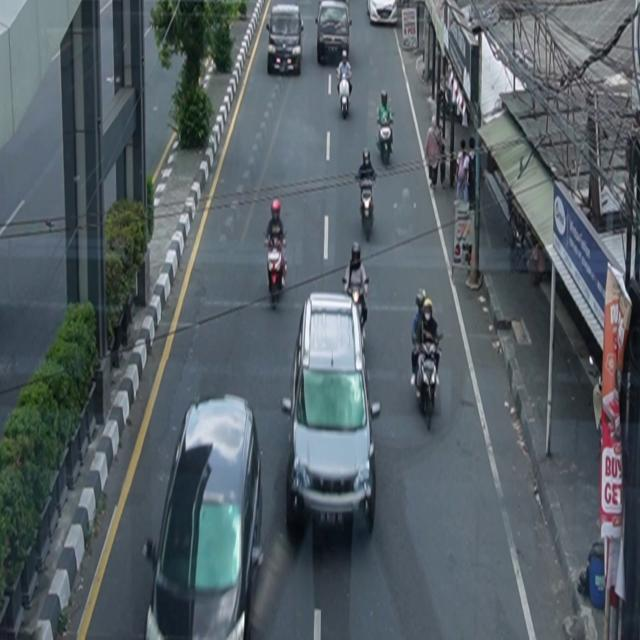car: (143, 394, 265, 640), (282, 293, 382, 536), (267, 4, 305, 76), (316, 1, 352, 66), (367, 1, 398, 26)
